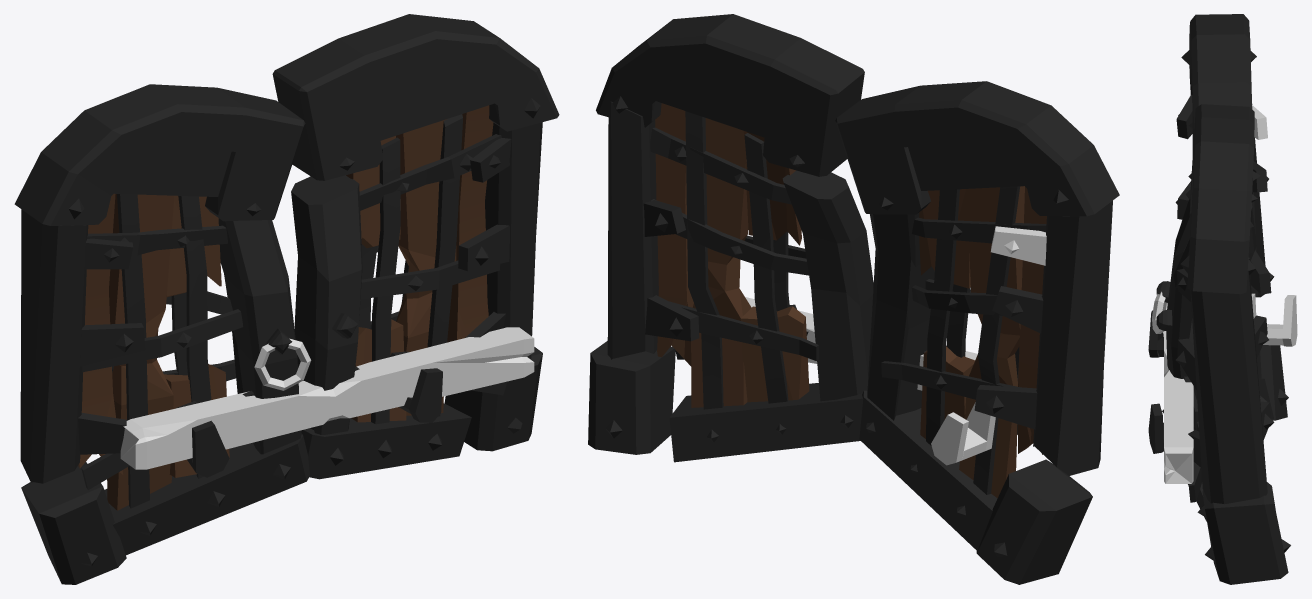
The model's file is Reinforced_DoorBroken.fbx.
3 renders of one model, left to right at view 1: azimuth 30°, elevation 25°; view 2: azimuth 150°, elevation 25°; view 3: azimuth 270°, elevation 25°, orthographic. The views are drawn at different scales.
Parts seen in each view (by area): view 1: Reinforced_DoorBrokenLeft, Reinforced_DoorBrokenRight, Reinforced_BrokenWoodRight, Reinforced_BrokenWoodRight1, Reinforced_BrokenRing; view 2: Reinforced_DoorBrokenRight, Reinforced_DoorBrokenLeft, Reinforced_BrokenHolder, Reinforced_BrokenPiece; view 3: Reinforced_DoorBrokenRight, Reinforced_DoorBrokenLeft, Reinforced_BrokenWoodRight, Reinforced_BrokenHolder, Reinforced_BrokenPiece, Reinforced_BrokenRing.
Boxes of the visible parts, x1=… form: Reinforced_DoorBrokenLeft: x1=14, y1=84, x2=309, y2=584; Reinforced_DoorBrokenRight: x1=272, y1=14, x2=559, y2=479; Reinforced_BrokenWoodRight: x1=317, y1=327, x2=534, y2=421; Reinforced_BrokenWoodRight1: x1=120, y1=381, x2=342, y2=469; Reinforced_BrokenRing: x1=254, y1=338, x2=311, y2=390; Reinforced_DoorBrokenRight: x1=588, y1=14, x2=873, y2=462; Reinforced_DoorBrokenLeft: x1=835, y1=81, x2=1119, y2=584; Reinforced_BrokenHolder: x1=931, y1=402, x2=995, y2=465; Reinforced_BrokenPiece: x1=990, y1=226, x2=1046, y2=265; Reinforced_DoorBrokenRight: x1=1148, y1=104, x2=1290, y2=584; Reinforced_DoorBrokenLeft: x1=1148, y1=14, x2=1288, y2=420; Reinforced_BrokenWoodRight: x1=1164, y1=362, x2=1193, y2=483; Reinforced_BrokenHolder: x1=1251, y1=293, x2=1297, y2=346; Reinforced_BrokenPiece: x1=1252, y1=105, x2=1267, y2=139; Reinforced_BrokenRing: x1=1152, y1=291, x2=1167, y2=333.
Bounding box in the file's own units: 516 × 457 × 144.
